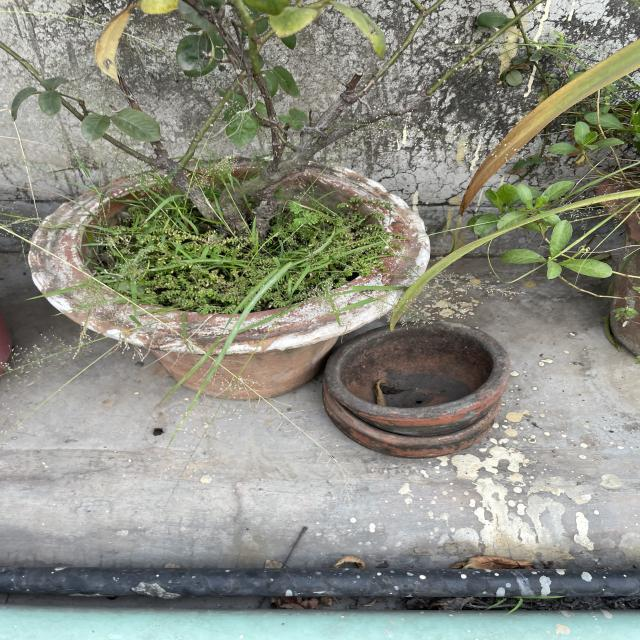Breeding Place: (35, 160, 402, 401), (331, 322, 510, 457)
